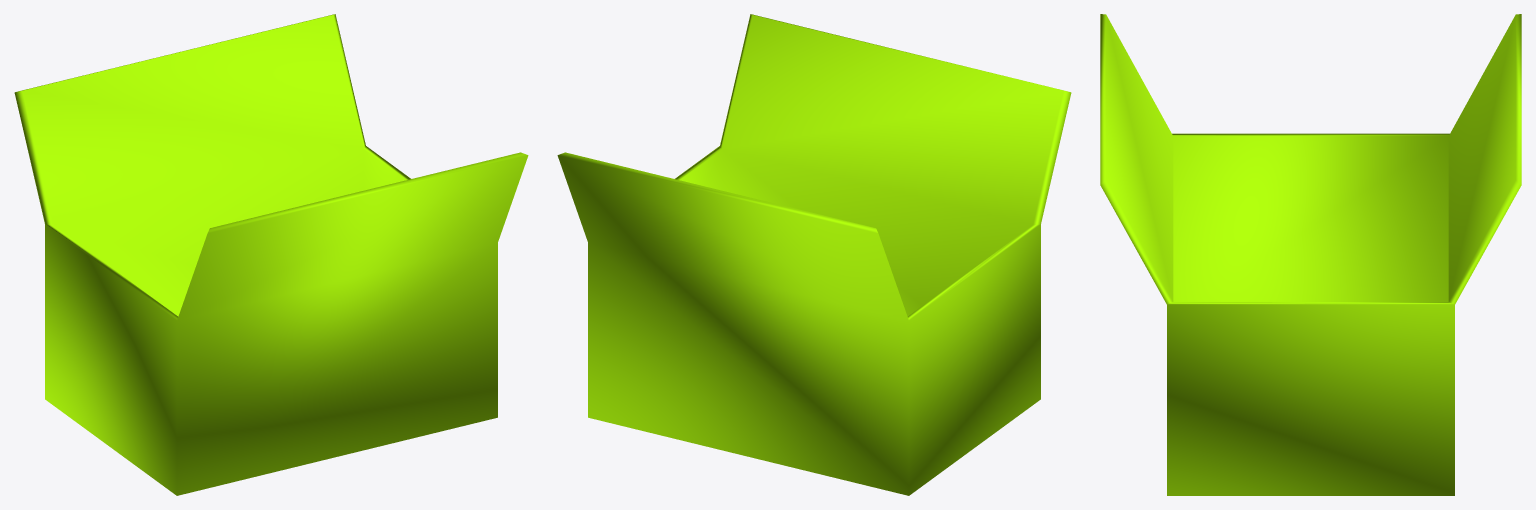
File: Cardboard_Box_A_COL.FBX
3 renders of one model, left to right at view 1: azimuth 30°, elevation 25°; view 2: azimuth 150°, elevation 25°; view 3: azimuth 270°, elevation 25°, orthographic. The views are drawn at different scales.
Parts seen in each view (by area): view 1: Cardboard_Box_A_COL; view 2: Cardboard_Box_A_COL; view 3: Cardboard_Box_A_COL.
Part boxes in pixels (x1=…): Cardboard_Box_A_COL: x1=14, y1=14, x2=528, y2=495; Cardboard_Box_A_COL: x1=557, y1=14, x2=1071, y2=495; Cardboard_Box_A_COL: x1=1100, y1=14, x2=1521, y2=495.
Bounding box in the file's own units: 62.71 × 53.54 × 65.29.
